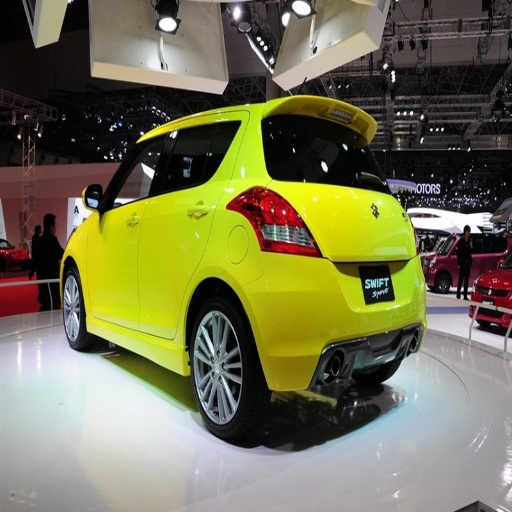back_bumper: (242, 253, 422, 397)
back_glass: (269, 121, 366, 186)
back_left_door: (140, 125, 214, 338)
tailgate: (300, 188, 415, 302)
